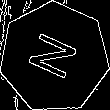N_SE: (24, 29, 85, 86)
